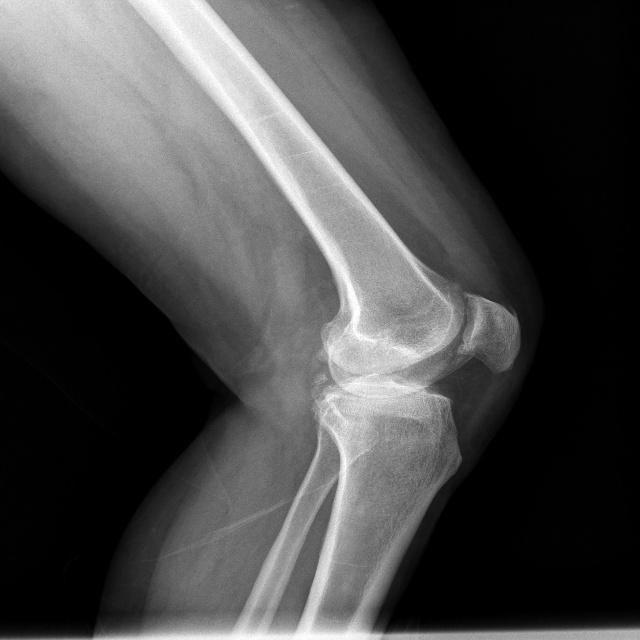Knee: (310, 291, 520, 447)
